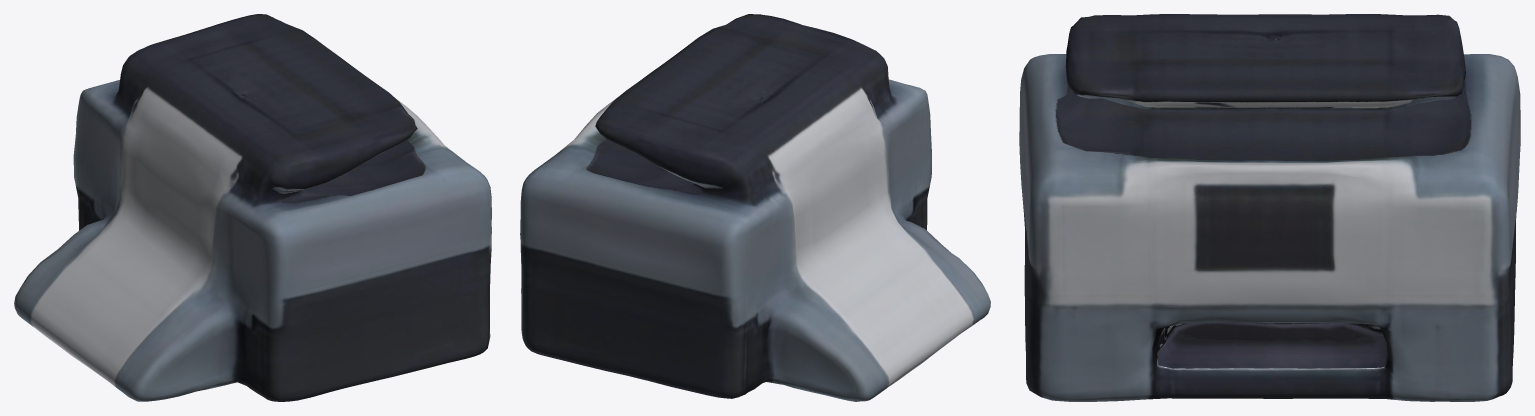
The model's file is printer.fbx.
The picture shows the model from 3 angles, left to right: view 1: azimuth 30°, elevation 25°; view 2: azimuth 150°, elevation 25°; view 3: azimuth 270°, elevation 25°; orthographic projection. The views are drawn at different scales.
Parts seen in each view (by area): view 1: mesh; view 2: mesh; view 3: mesh.
Part boxes in pixels (x1,y1,x2,y2): mesh: (14,14,491,401); mesh: (520,14,990,401); mesh: (1019,14,1520,401).
Bounding box in the file's own units: 92.41 × 63.09 × 99.67.
